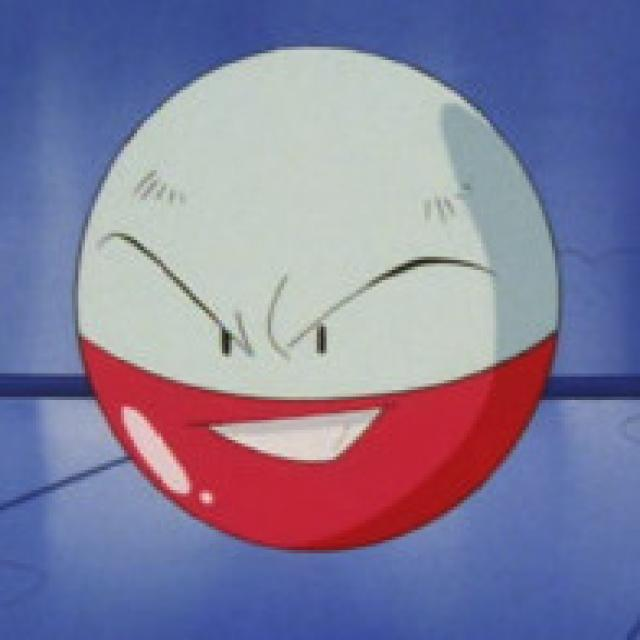Electrode: (71, 48, 566, 555)
